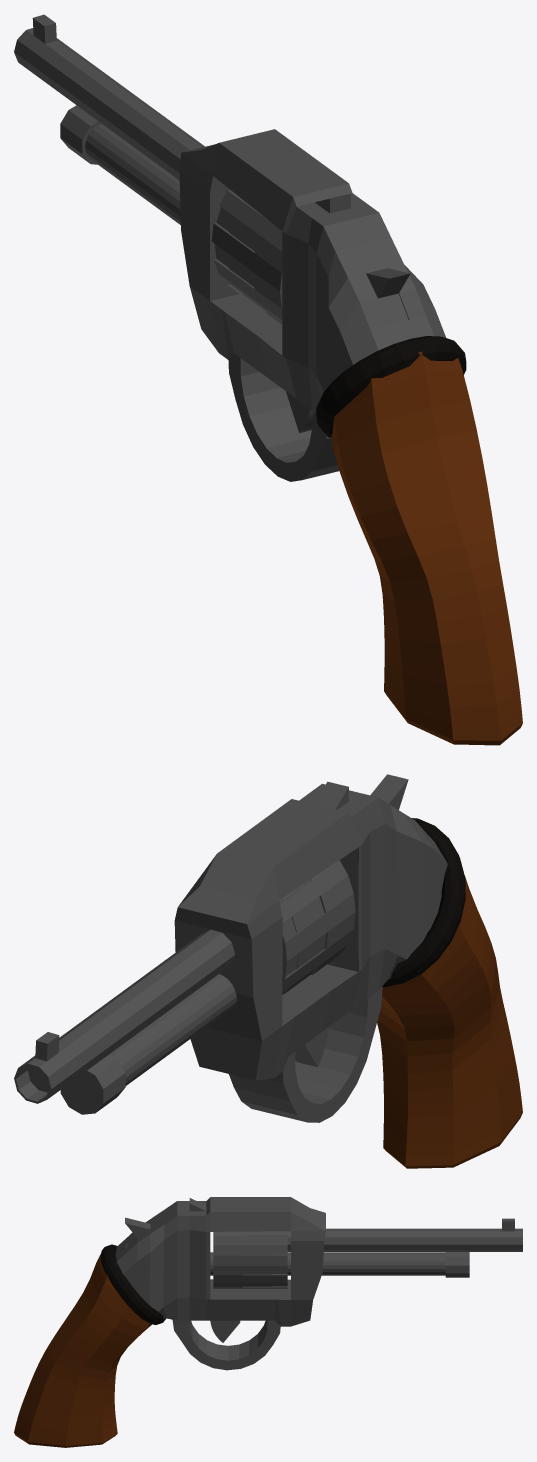
File: RevColour.fbx
3 views of the same model, one above another, from view 1: azimuth 30°, elevation 25°; view 2: azimuth 150°, elevation 25°; view 3: azimuth 270°, elevation 25° (orthographic). The views are drawn at different scales.
Parts seen in each view (by area): view 1: Base, Cube, Cylinder, Torus.001, Cylinder.001; view 2: Base, Cube, Cylinder, Torus.001, Cylinder.001; view 3: Base, Cube, Cylinder, Torus.001, Cylinder.001.
Part boxes in pixels (x1,y1,x2,y2): Base: (85,123,446,481); Cube: (331,351,522,745); Cylinder: (14,14,204,180); Torus.001: (316,336,466,437); Cylinder.001: (60,105,101,164); Base: (109,774,447,1122); Cube: (358,863,522,1168); Cylinder: (14,929,235,1103); Torus.001: (358,818,465,987); Cylinder.001: (60,1054,125,1114); Base: (115,1197,445,1370); Cube: (14,1252,151,1447); Cylinder: (287,1218,522,1251); Torus.001: (101,1244,165,1324); Cylinder.001: (445,1252,469,1277).
Size of the model in its own units: 73.96 by 222 by 434.
